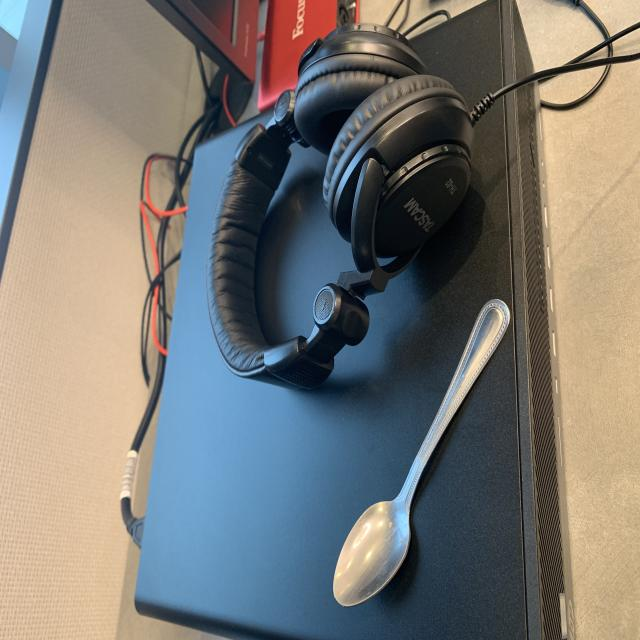Spoon: (330, 293, 528, 612)
